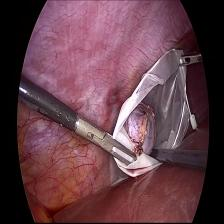Specimen Bag: (111, 54, 187, 180)
